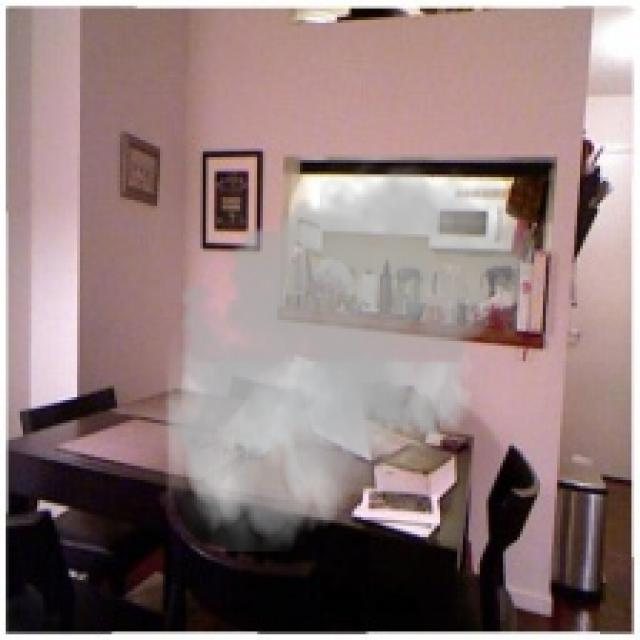smoke: (151, 148, 546, 552)
